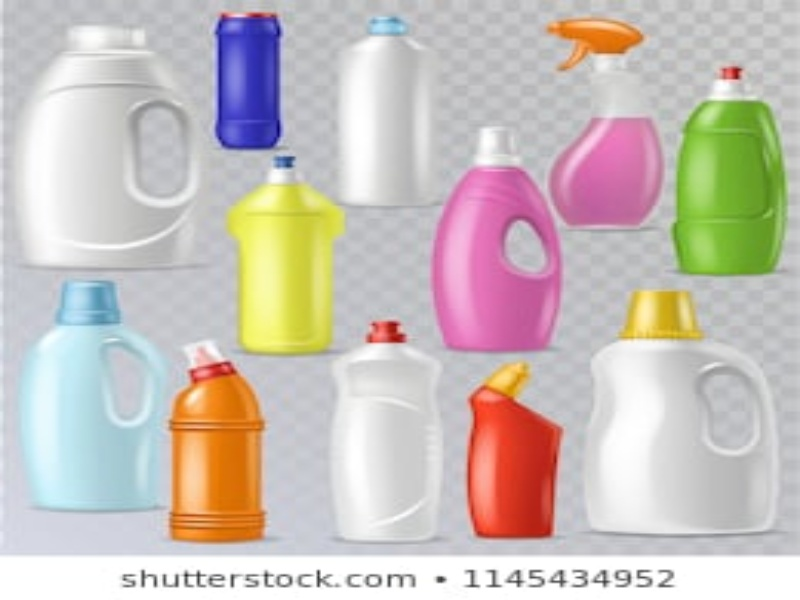bottle-cap: (47, 280, 123, 330)
detergent-bottle: (574, 283, 780, 541), (6, 22, 202, 273), (22, 278, 175, 516), (426, 123, 575, 352), (325, 317, 451, 545), (664, 59, 791, 280), (540, 17, 666, 230), (223, 154, 348, 357), (157, 340, 276, 545), (324, 14, 449, 209), (461, 357, 573, 538), (213, 11, 292, 151)
